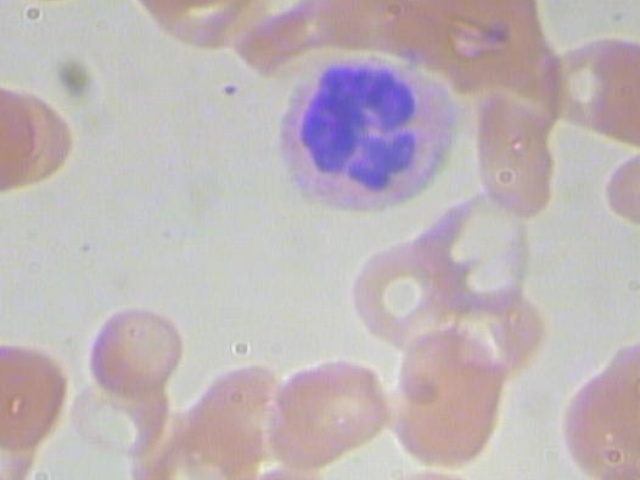RBC: (379, 328, 513, 472), (256, 349, 394, 475), (471, 93, 571, 219), (69, 363, 177, 460), (350, 242, 451, 344), (87, 298, 188, 396), (0, 341, 71, 454), (595, 332, 640, 457)
WBC: (254, 49, 470, 221)
